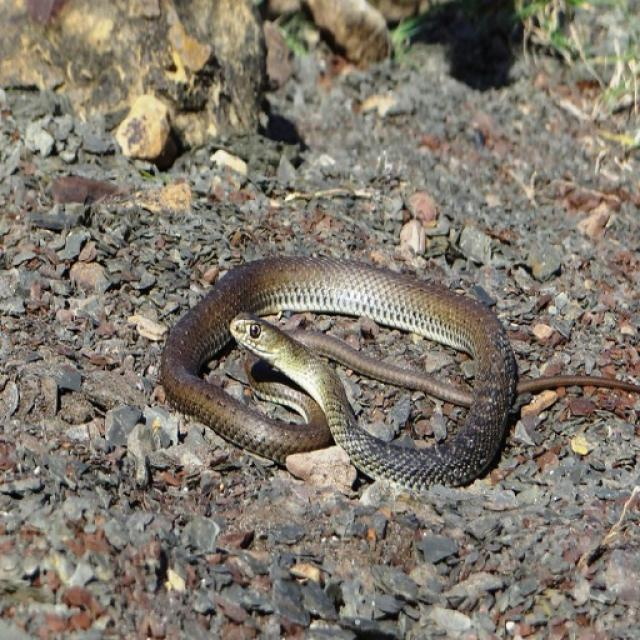snake: (146, 234, 640, 521)
